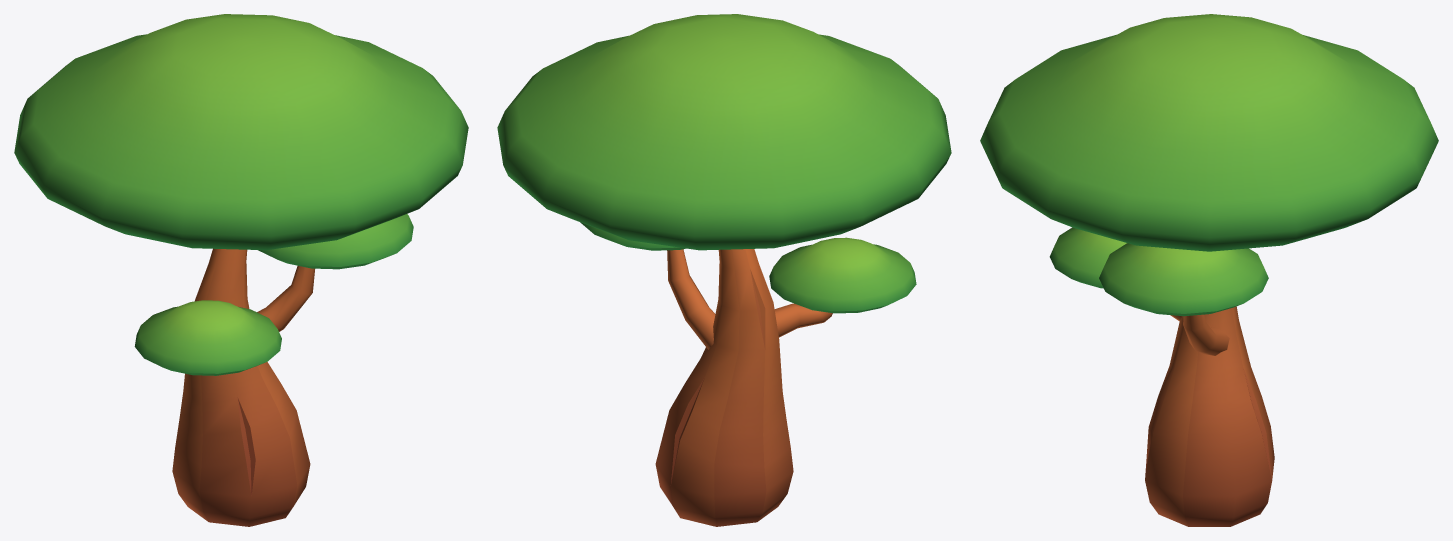
Rendered from Tree3A.glb.
3 renders of one model, left to right at view 1: azimuth 30°, elevation 25°; view 2: azimuth 150°, elevation 25°; view 3: azimuth 270°, elevation 25°, orthographic.
Visible parts, largest first — view 1: Tree_3_A_Color1; view 2: Tree_3_A_Color1; view 3: Tree_3_A_Color1.
Boxes of the visible parts, x1,y1,x2,y2 form: Tree_3_A_Color1: (14,14,468,526); Tree_3_A_Color1: (497,14,951,526); Tree_3_A_Color1: (980,14,1438,526).
Size of the model in its own units: 3.09 by 3.51 by 3.09.
1 material, 1 textured.
